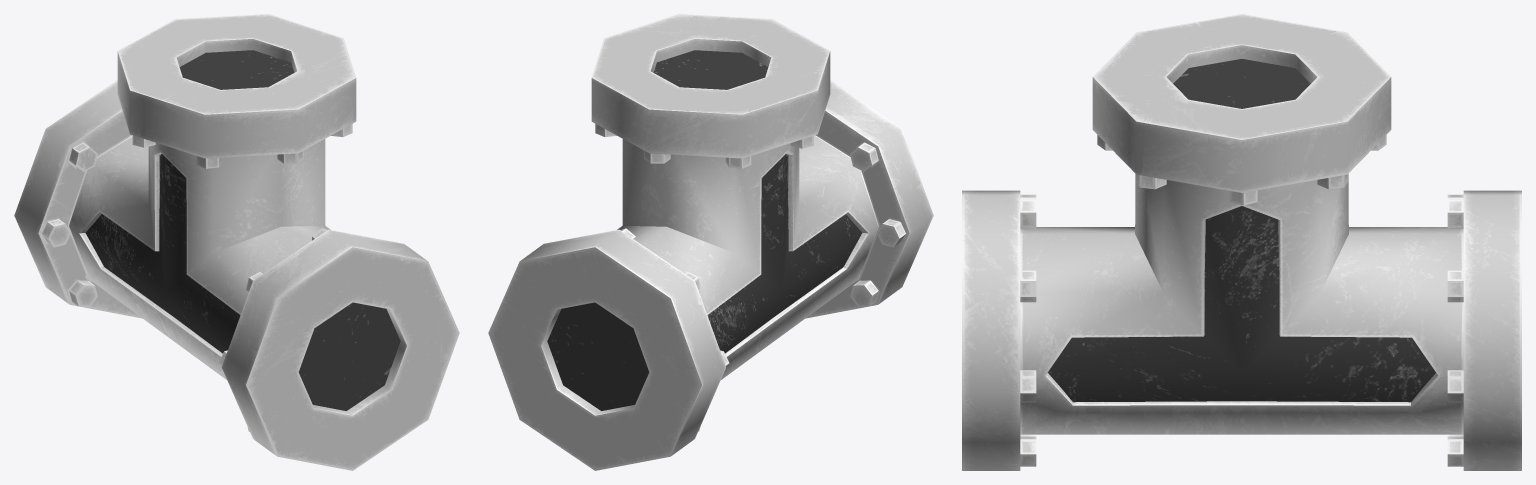
File: Pipe_T.glb
3 renders of one model, left to right at view 1: azimuth 30°, elevation 25°; view 2: azimuth 150°, elevation 25°; view 3: azimuth 270°, elevation 25°, orthographic. The views are drawn at different scales.
Visible parts, largest first — view 1: pipe_tee; view 2: pipe_tee; view 3: pipe_tee.
Boxes of the visible parts, bbox=[...] form: pipe_tee: bbox=[14, 14, 459, 470]; pipe_tee: bbox=[488, 14, 933, 470]; pipe_tee: bbox=[962, 14, 1521, 470].
Size of what is drawn, in the model's own units: 0.7154 by 1.03 by 1.34.
Materials: 1 (1 with a texture image).
